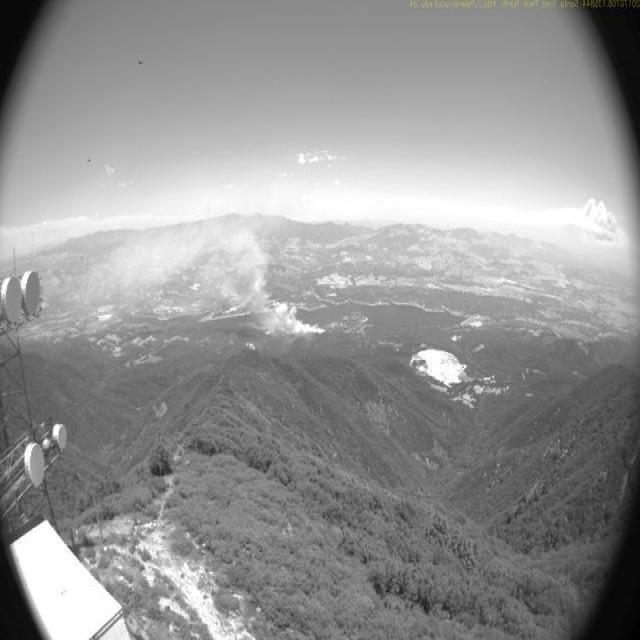Smoke: (59, 215, 333, 342)
